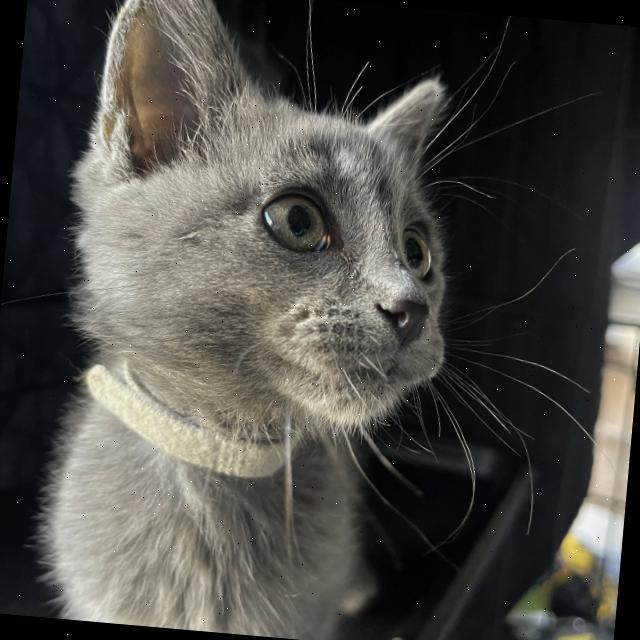russian_blue_cat: (51, 0, 523, 484)
